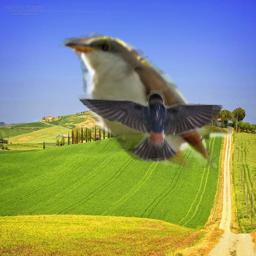Cuckoo: (58, 24, 232, 168)
Swallow: (74, 90, 225, 163)
